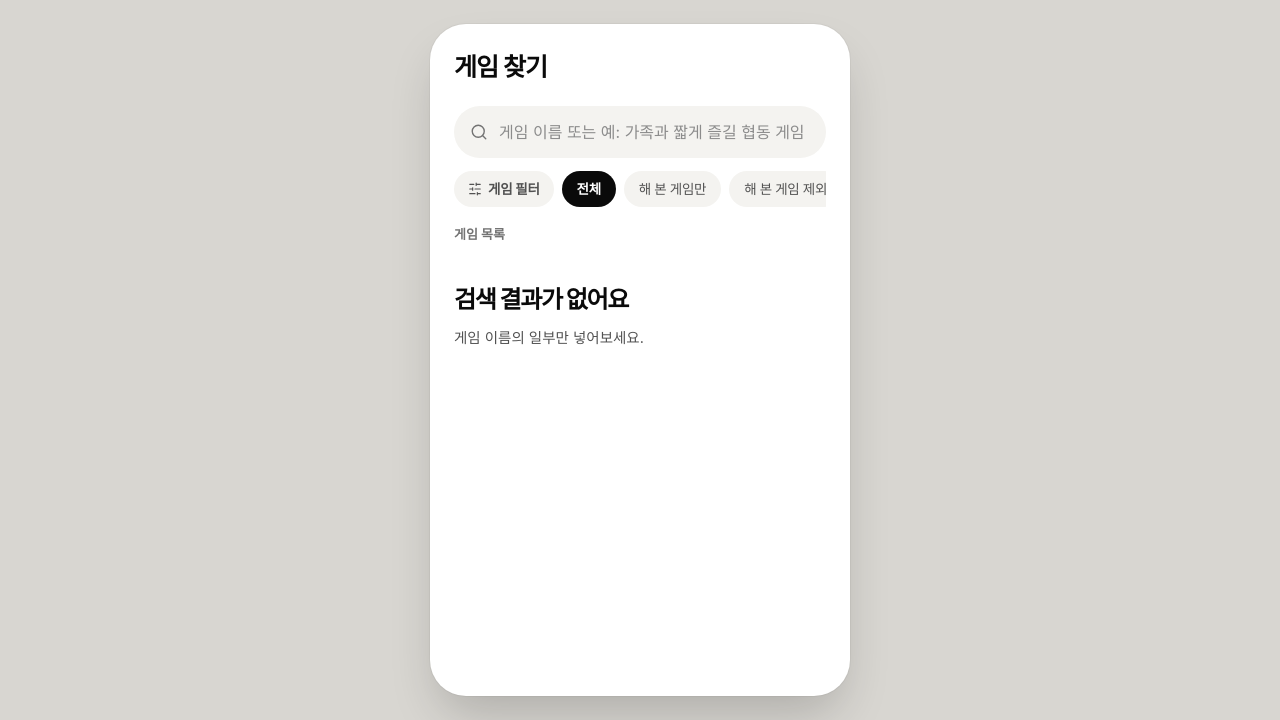
Scenario: T2·T3 게임 조건 필터 조회 시점 › #749 T8 시트 안의 닫기 조작으로 필터를 닫고 선택은 유지한다
Click the button "게임 필터" at (504, 189), box [454,171,554,207]
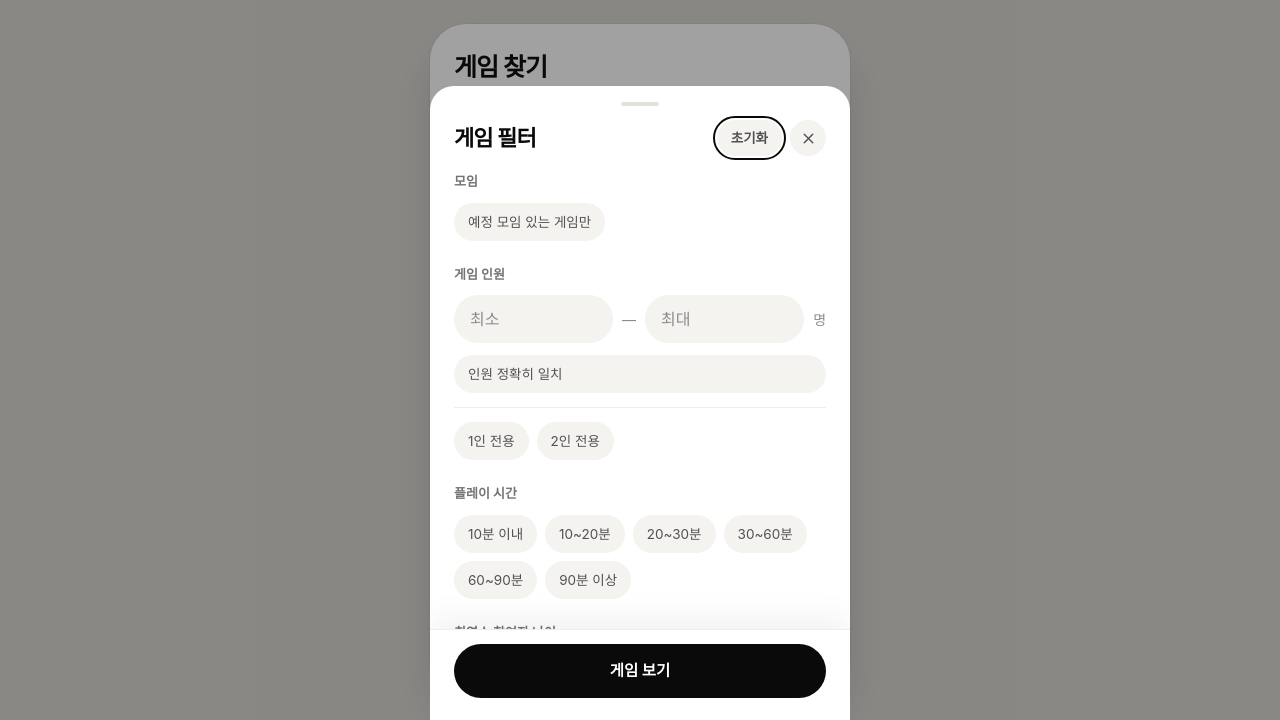
Type "3" into the number field labelled "최소" at (534, 319), box [454,295,613,343]
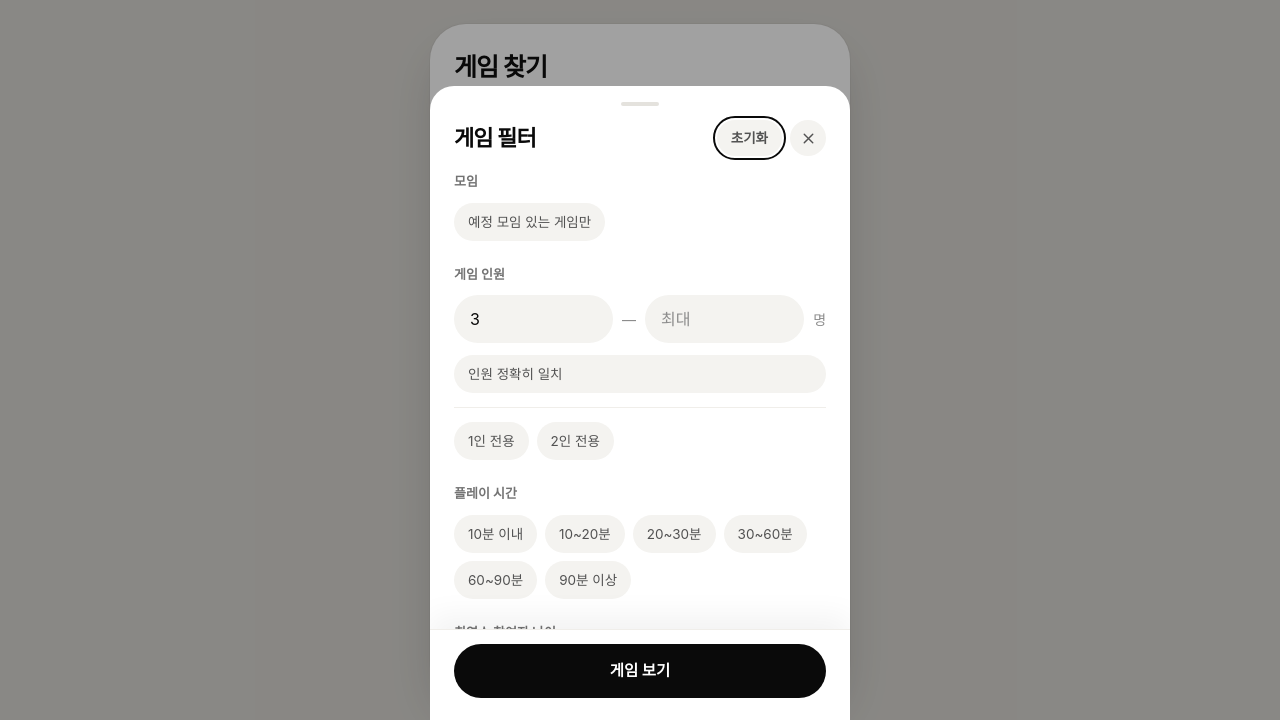
Click the button named "게임 필터 닫기" at (808, 138), box [790,120,826,156]
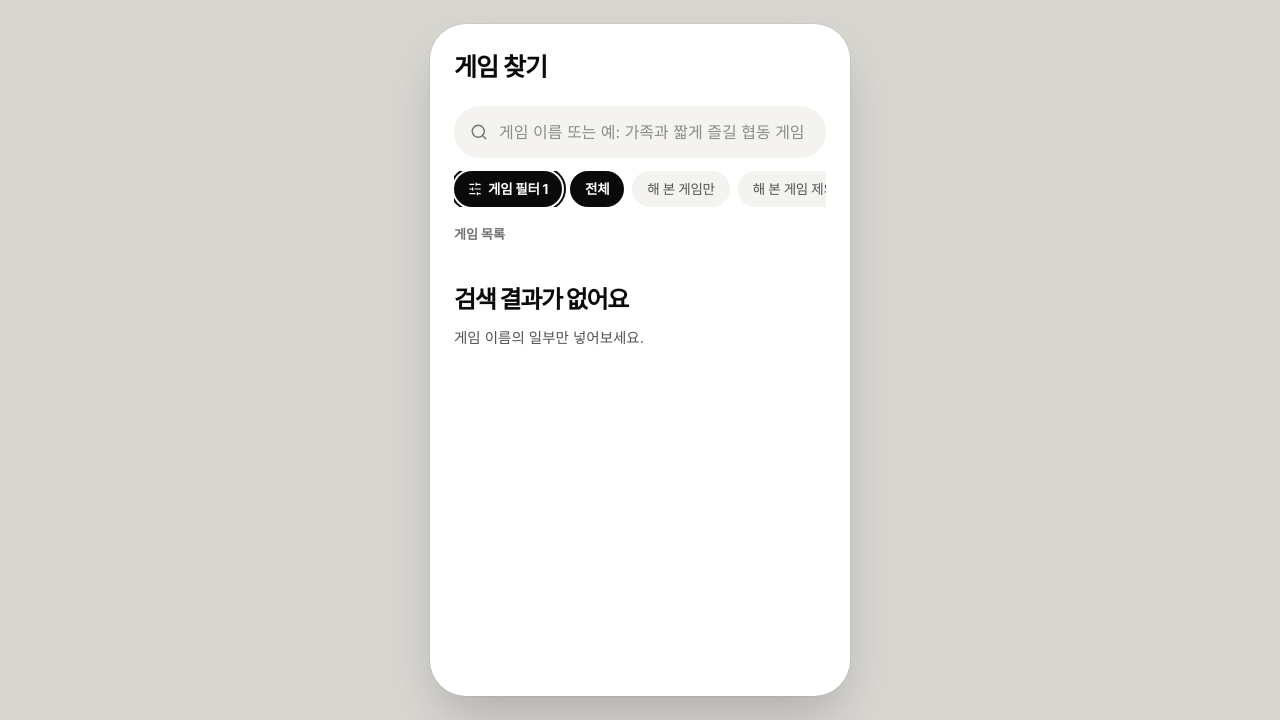
Result: the number field labelled "최소" is gone
Click the button "게임 필터 1" at (508, 189), box [454,171,562,207]
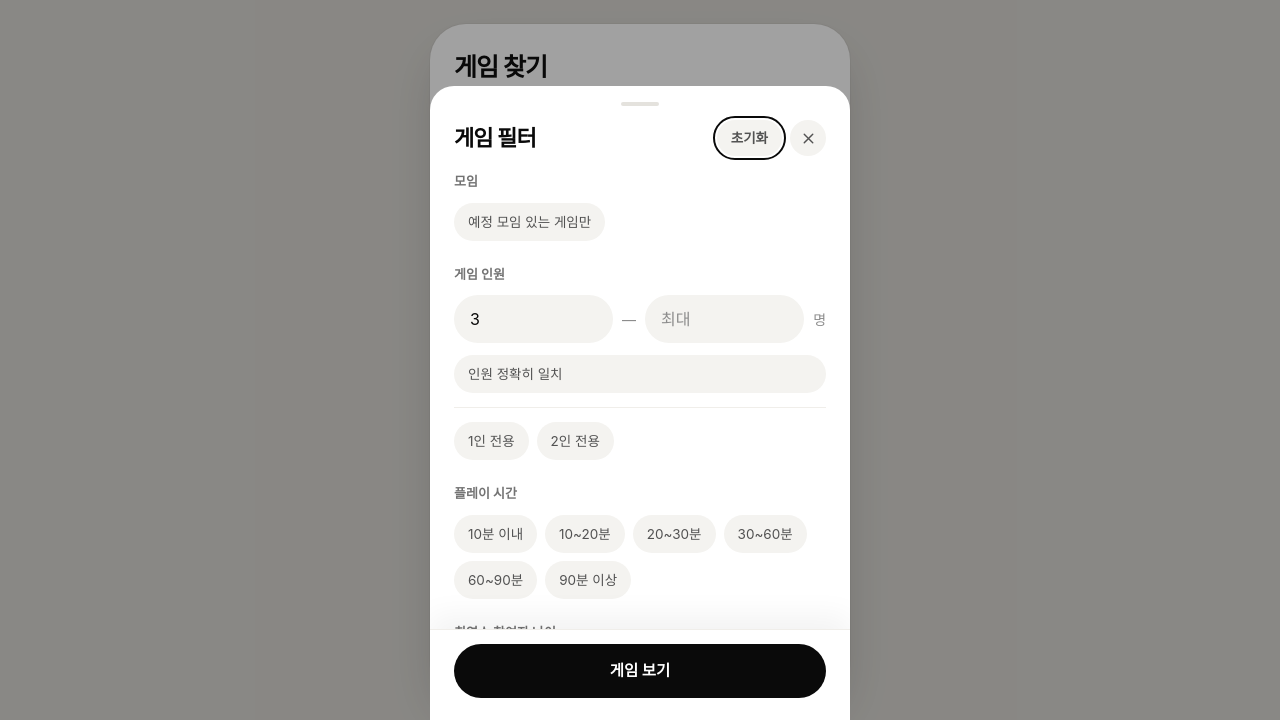
Result: the number field named "최소" holds "3" at [454,295,613,343]
